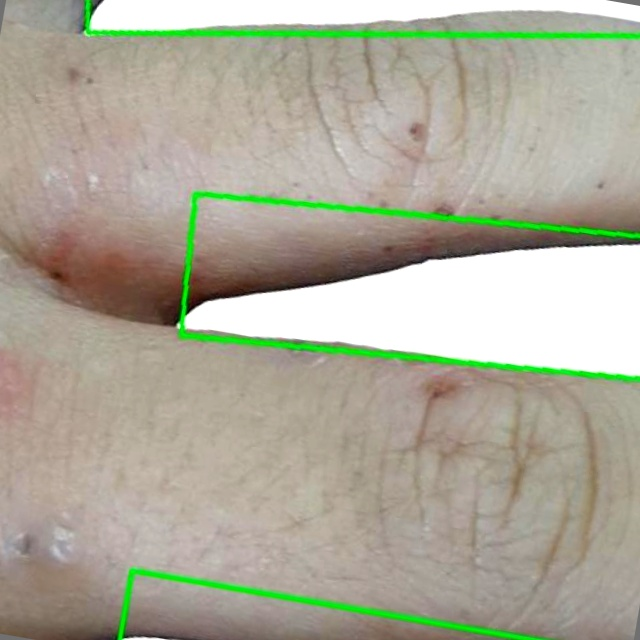Scabies: (181, 193, 639, 379)
